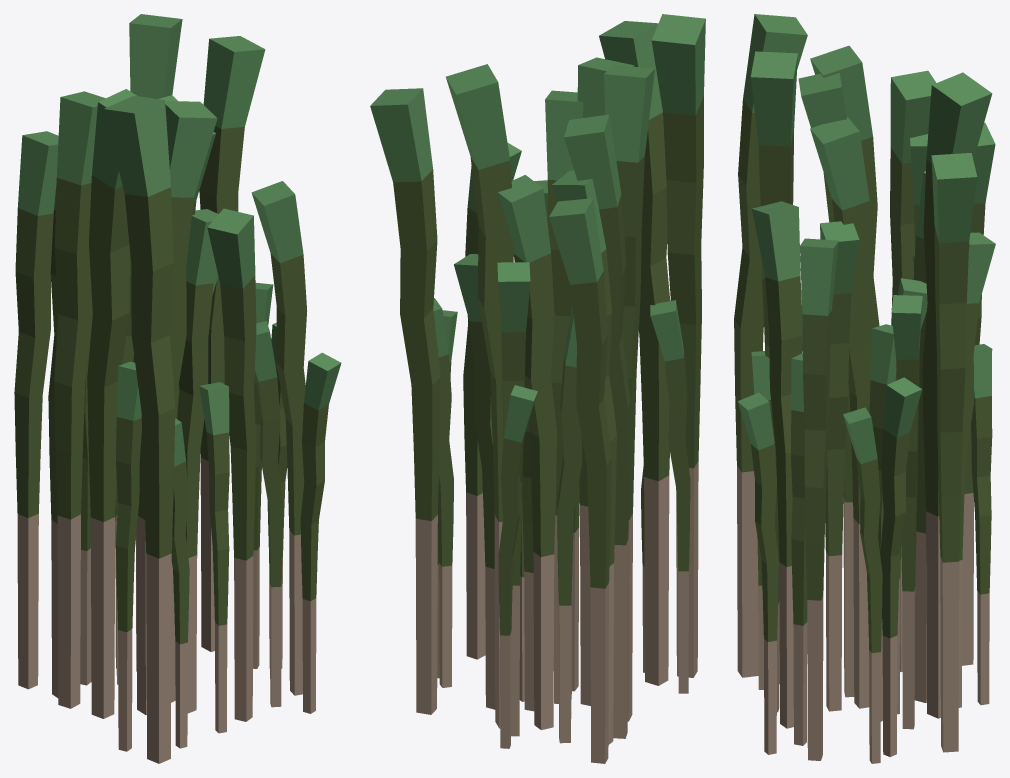
The model's file is PlanesShrub2.fbx.
The picture shows the model from 3 angles, left to right: view 1: azimuth 30°, elevation 25°; view 2: azimuth 150°, elevation 25°; view 3: azimuth 270°, elevation 25°; orthographic projection. The views are drawn at different scales.
Parts seen in each view (by area): view 1: Stick.010, Stick.023, Stick.019, Stick.011, Stick.018, Stick.008, Stick.015, Stick.005, Stick.025, Stick.024, Stick.006, Stick.017 (+10 smaller); view 2: Stick.015, Stick.010, Stick.006, Stick.011, Stick.022, Stick.020, Stick.023, Stick.019, Stick.003, Stick.027, Stick.008, Stick.025 (+11 smaller); view 3: Stick.015, Stick.010, Stick.008, Stick.018, Stick.020, Stick.027, Stick.005, Stick.021, Stick.024, Stick.006, Stick.023, Stick.002 (+13 smaller).
Boxes of the visible parts, left/top/right/bottom form: Stick.010: left=103, top=95, right=175, bottom=763; Stick.023: left=54, top=91, right=105, bottom=708; Stick.019: left=87, top=89, right=136, bottom=718; Stick.011: left=14, top=131, right=58, bottom=689; Stick.018: left=207, top=208, right=256, bottom=721; Stick.008: left=251, top=181, right=306, bottom=695; Stick.015: left=199, top=36, right=265, bottom=651; Stick.005: left=177, top=209, right=218, bottom=713; Stick.025: left=116, top=361, right=141, bottom=751; Stick.024: left=300, top=352, right=341, bottom=713; Stick.006: left=165, top=101, right=217, bottom=404; Stick.017: left=199, top=382, right=229, bottom=733; Stick.015: left=370, top=88, right=440, bottom=714; Stick.010: left=651, top=14, right=705, bottom=677; Stick.006: left=599, top=21, right=670, bottom=685; Stick.011: left=549, top=198, right=611, bottom=763; Stick.022: left=498, top=175, right=556, bottom=730; Stick.020: left=446, top=64, right=514, bottom=728; Stick.023: left=564, top=114, right=630, bottom=738; Stick.019: left=604, top=65, right=654, bottom=721; Stick.003: left=557, top=304, right=582, bottom=743; Stick.027: left=545, top=90, right=583, bottom=703; Stick.008: left=463, top=142, right=521, bottom=659; Stick.025: left=650, top=300, right=690, bottom=693; Stick.015: left=931, top=153, right=977, bottom=752; Stick.010: left=734, top=14, right=807, bottom=677; Stick.008: left=800, top=238, right=838, bottom=760; Stick.018: left=752, top=201, right=801, bottom=728; Stick.020: left=922, top=72, right=992, bottom=718; Stick.027: left=810, top=116, right=873, bottom=708; Stick.005: left=820, top=221, right=859, bottom=711; Stick.021: left=880, top=377, right=922, bottom=756; Stick.024: left=737, top=392, right=778, bottom=754; Stick.006: left=750, top=51, right=797, bottom=684; Stick.023: left=890, top=70, right=935, bottom=671; Stick.002: left=891, top=295, right=922, bottom=729.
Bounding box in the file's own units: 187 × 495 × 181.
